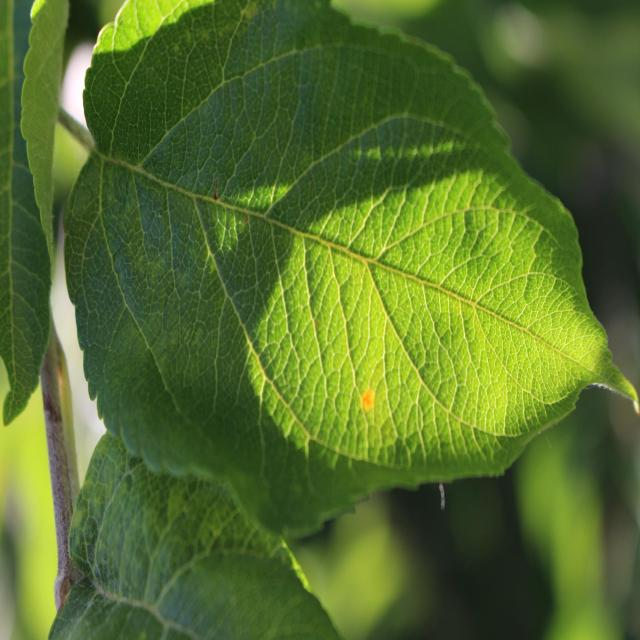Rust: (351, 369, 383, 424)
